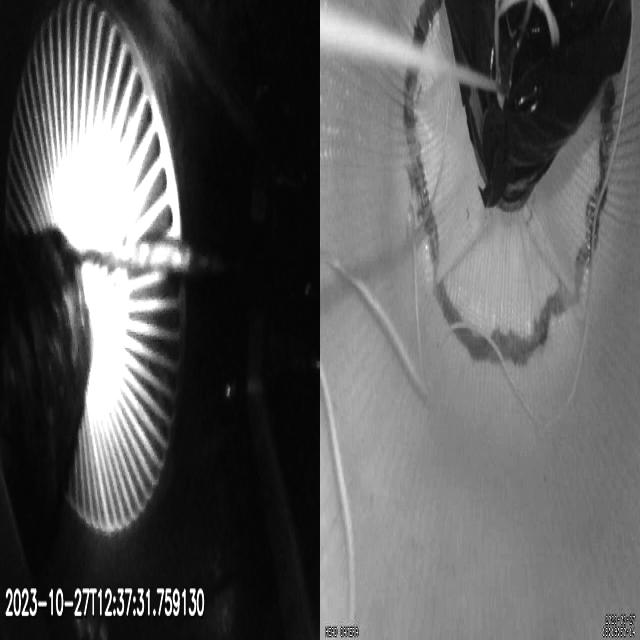red-circle: (403, 0, 616, 368)
